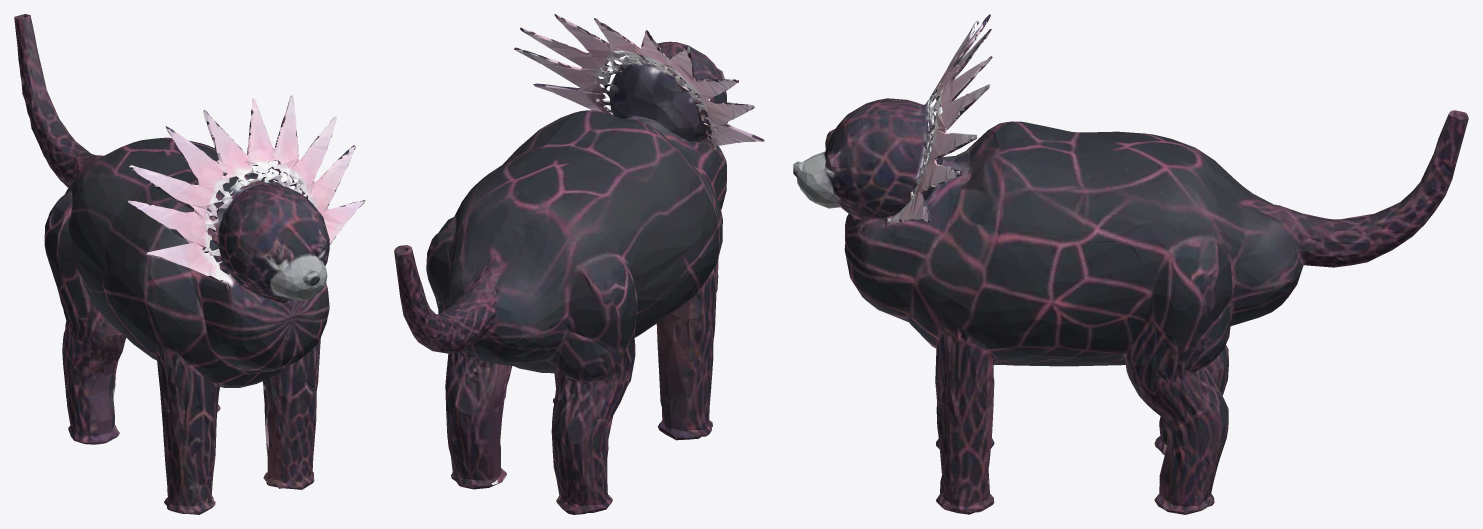
The model's file is creature-023.lod.glb.
The picture shows the model from 3 angles, left to right: view 1: azimuth 30°, elevation 25°; view 2: azimuth 150°, elevation 25°; view 3: azimuth 270°, elevation 25°; orthographic projection. The views are drawn at different scales.
Visible parts, largest first — view 1: tmpavkzcdsp.ply; view 2: tmpavkzcdsp.ply; view 3: tmpavkzcdsp.ply.
Part boxes in pixels (x1=…): tmpavkzcdsp.ply: x1=14, y1=14, x2=365, y2=514; tmpavkzcdsp.ply: x1=394, y1=14, x2=764, y2=514; tmpavkzcdsp.ply: x1=793, y1=14, x2=1468, y2=514.
Bounding box in the file's own units: 0.8825 × 1.43 × 1.99.
1 material, 1 textured.
